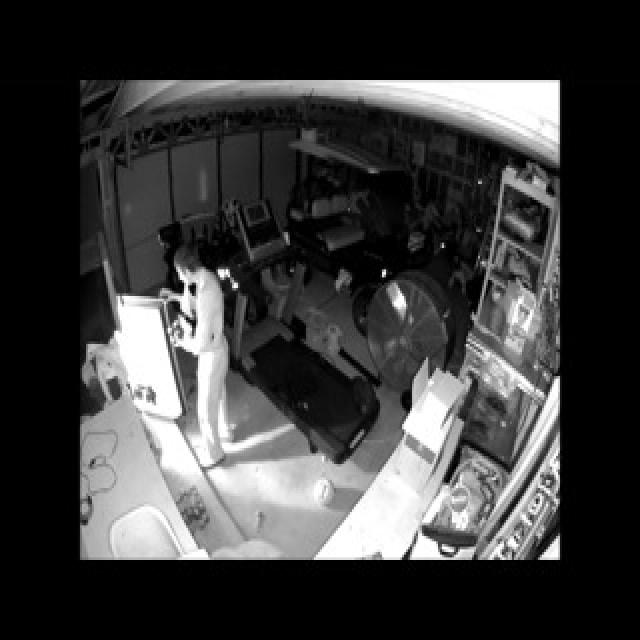thief: (169, 252, 245, 469)
